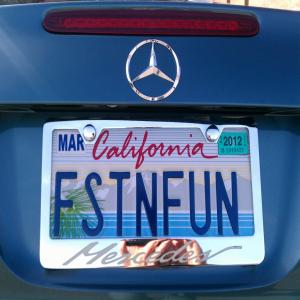Vehicle-registration-plate: (45, 121, 259, 263)
